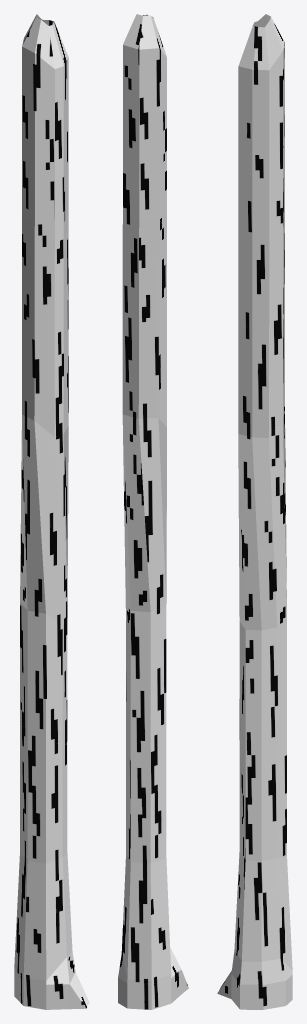
Rendered from TreeTrunk1 1.fbx.
3 renders of one model, left to right at view 1: azimuth 90°, elevation 25°; view 2: azimuth 150°, elevation 25°; view 3: azimuth 270°, elevation 25°, orthographic.
Parts seen in each view (by area): view 1: Cylinder; view 2: Cylinder; view 3: Cylinder.
Part boxes in pixels (bbox=[...]): Cylinder: bbox=[14, 14, 89, 1009]; Cylinder: bbox=[118, 14, 188, 1009]; Cylinder: bbox=[217, 14, 292, 1009].
Size of the model in its own units: 176 by 3392 by 236.
1 material, 1 textured.
